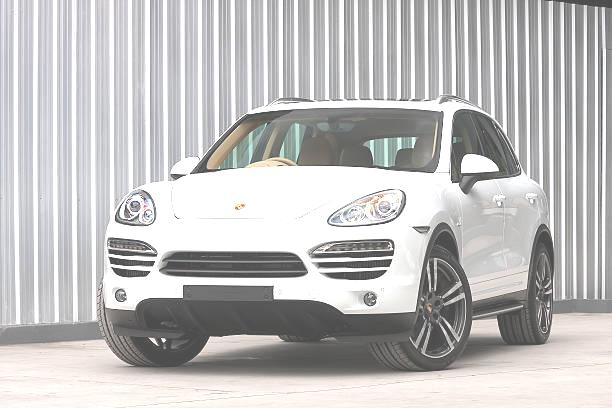porsche: (228, 199, 252, 214)
